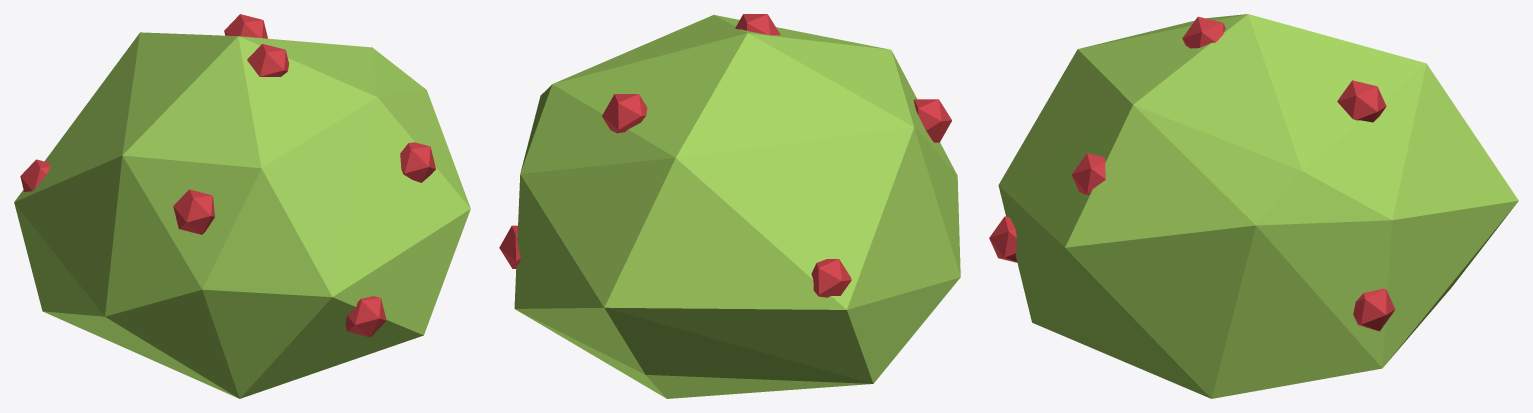
The model's file is BushWithBerrys01.fbx.
3 views of the same model, side by side, from view 1: azimuth 30°, elevation 25°; view 2: azimuth 150°, elevation 25°; view 3: azimuth 270°, elevation 25° (orthographic). The views are drawn at different scales.
Visible parts, largest first — view 1: Bush01, BushBerry01; view 2: Bush01, BushBerry01; view 3: Bush01, BushBerry01.
Part boxes in pixels (box(x1,y1,x2,y2)): Bush01: box(14, 32, 470, 398); BushBerry01: box(20, 14, 435, 337); Bush01: box(514, 15, 960, 398); BushBerry01: box(499, 14, 951, 297); Bush01: box(998, 14, 1518, 398); BushBerry01: box(989, 16, 1395, 331).
Size of the model in its own units: 107 by 93.11 by 127.
